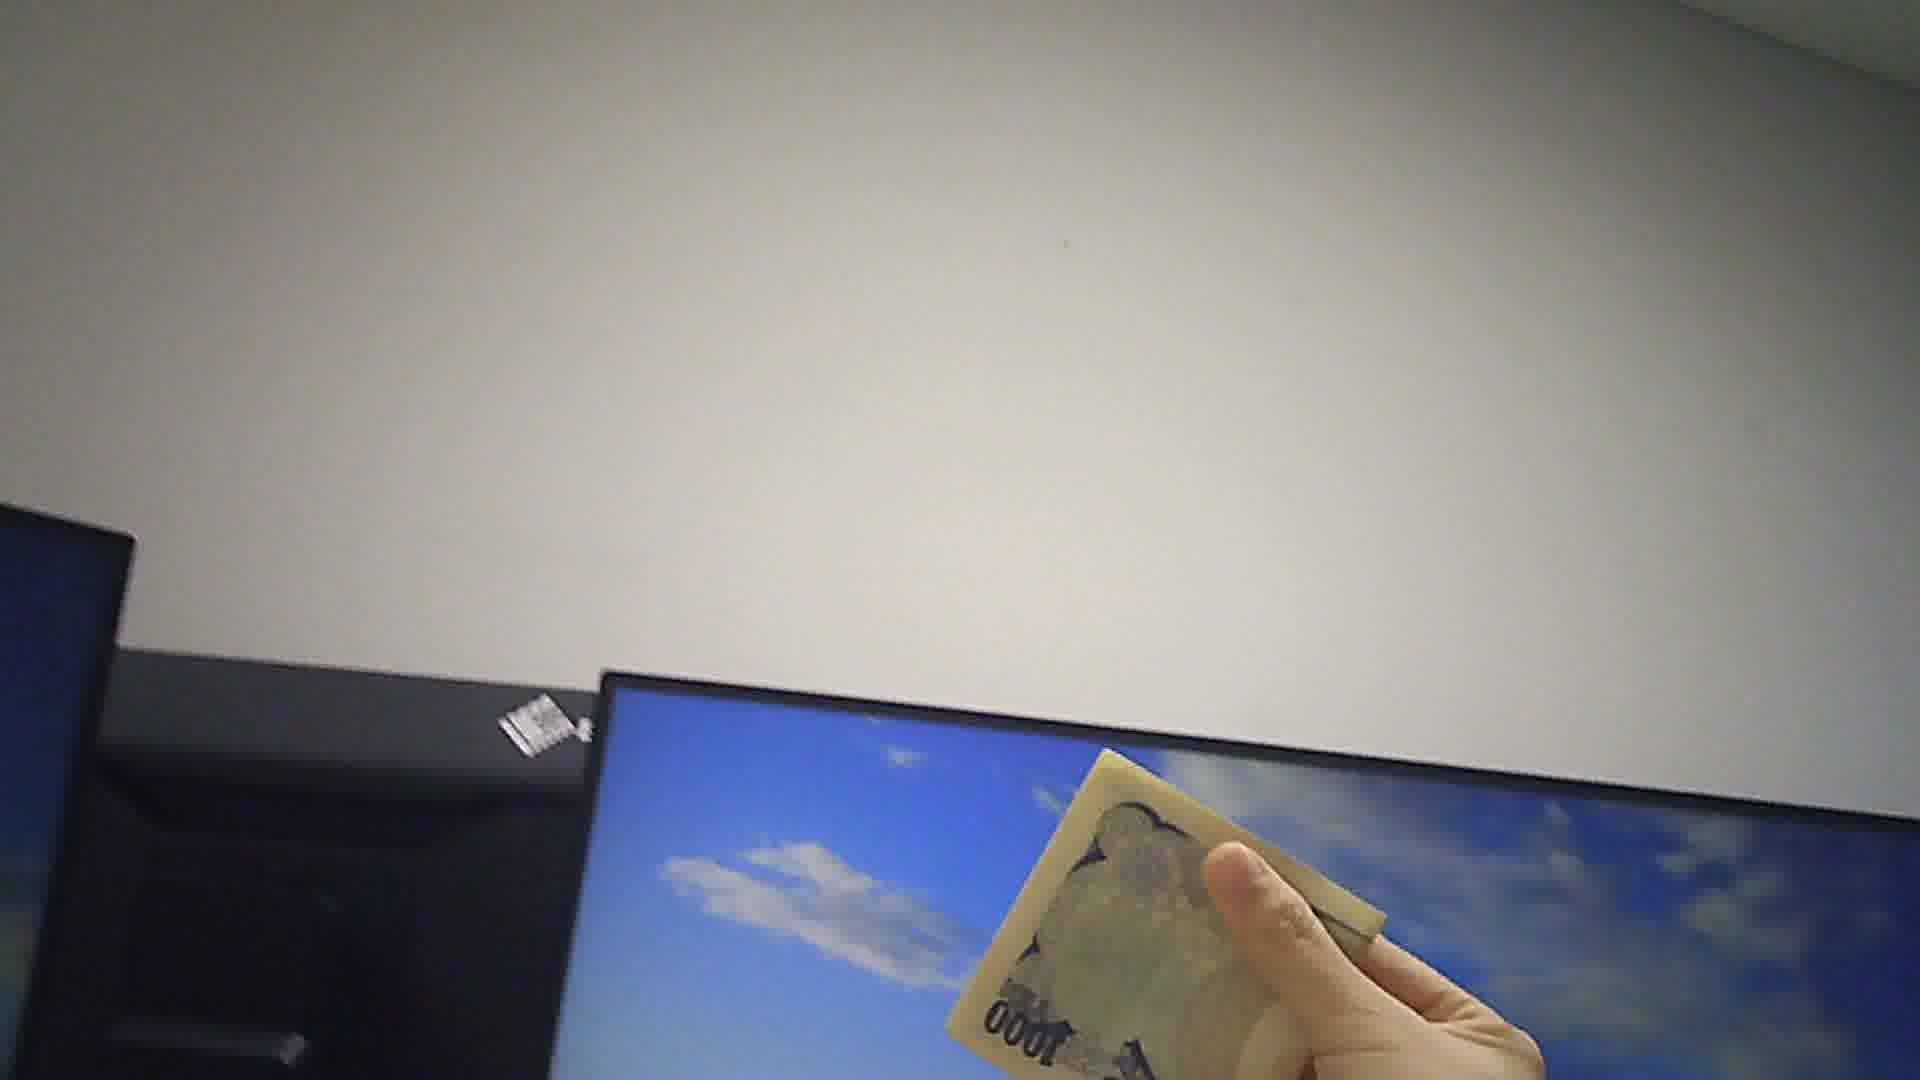1,000 Yen: (938, 742, 1404, 1079)
